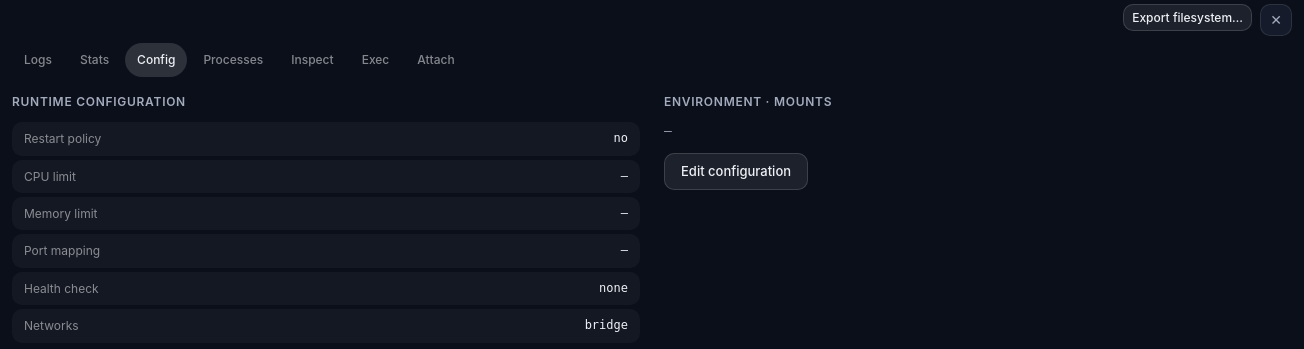
ContainerDetailPanel — Stats and Processes tabs (REQ-32, REQ-33) › stops the stats stream when another tab is selected
The image size is (1304, 349).
Click the tab "Stats": (94, 60) [68,43,121,77]
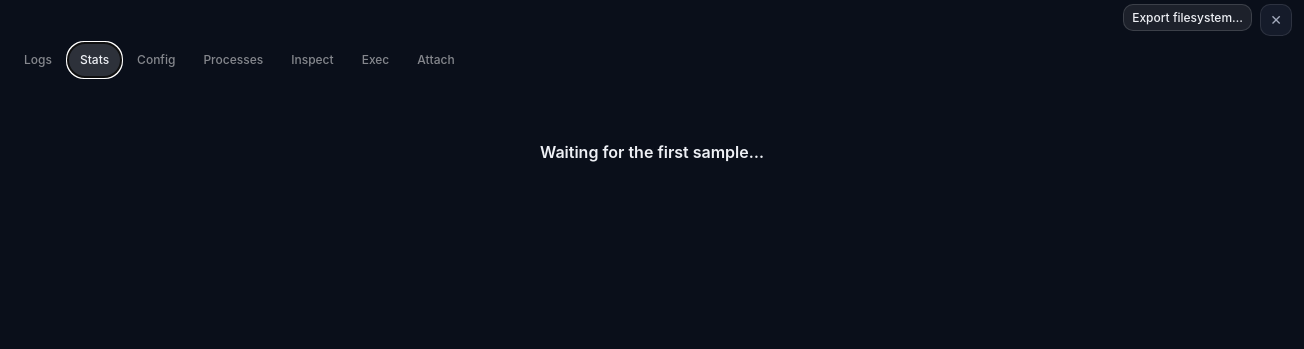
Click the tab "Config": (156, 60) [125,43,187,77]
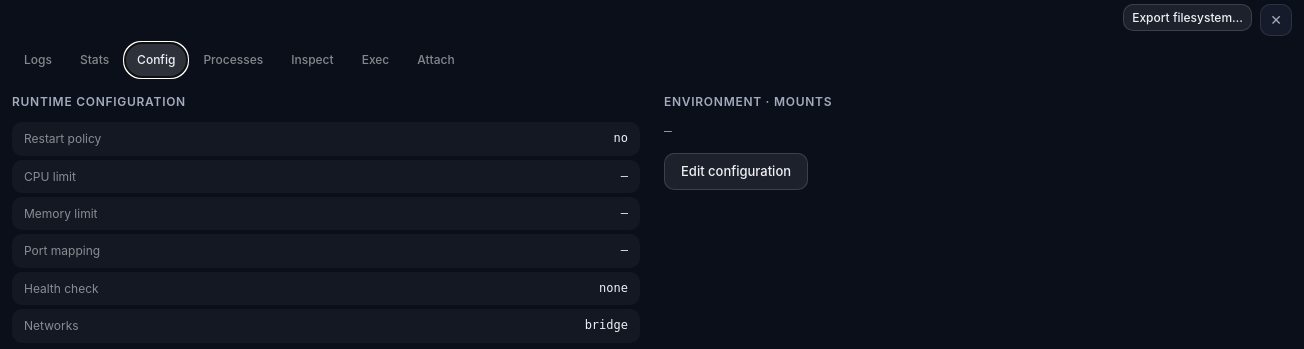
Check: the text "Waiting for the first sample" is gone
